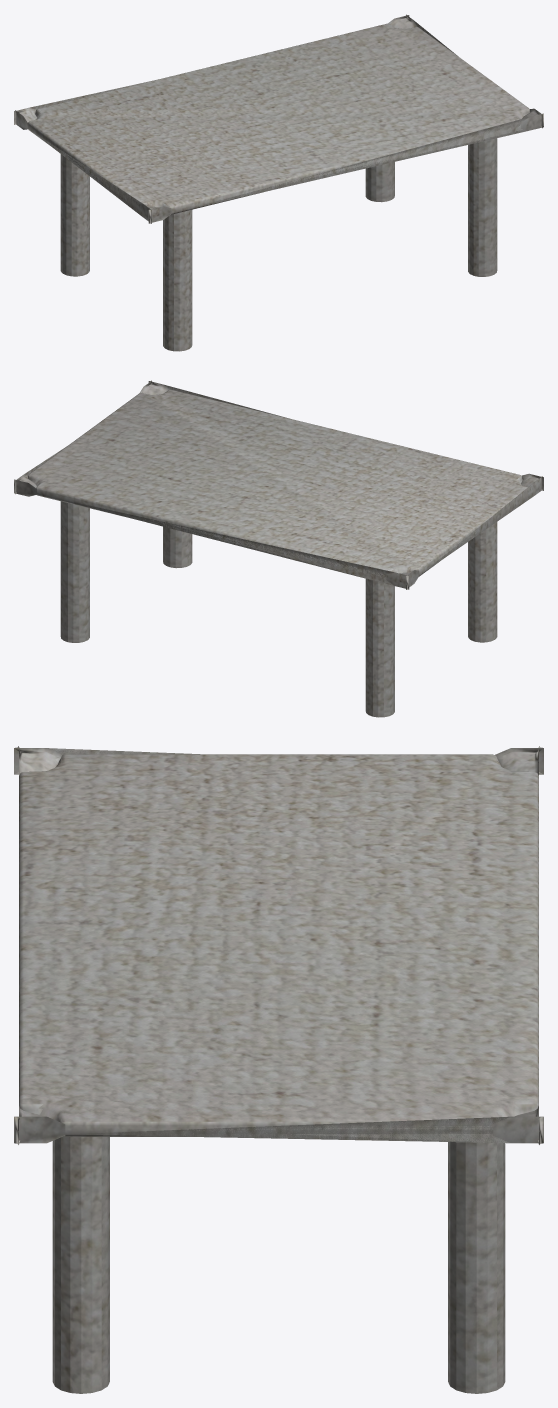
The model's file is Antique_Table_03.fbx.
The picture shows the model from 3 angles, top to bottom: view 1: azimuth 30°, elevation 25°; view 2: azimuth 150°, elevation 25°; view 3: azimuth 270°, elevation 25°; orthographic projection. The views are drawn at different scales.
Parts seen in each view (by area): view 1: Antique_Table; view 2: Antique_Table; view 3: Antique_Table.
Part boxes in pixels (x1=…): Antique_Table: x1=14, y1=14, x2=543, y2=351; Antique_Table: x1=14, y1=380, x2=543, y2=717; Antique_Table: x1=14, y1=746, x2=543, y2=1393.
Size of the model in its own units: 2.25 by 0.8625 by 1.36.
Materials: 1 (1 with a texture image).
